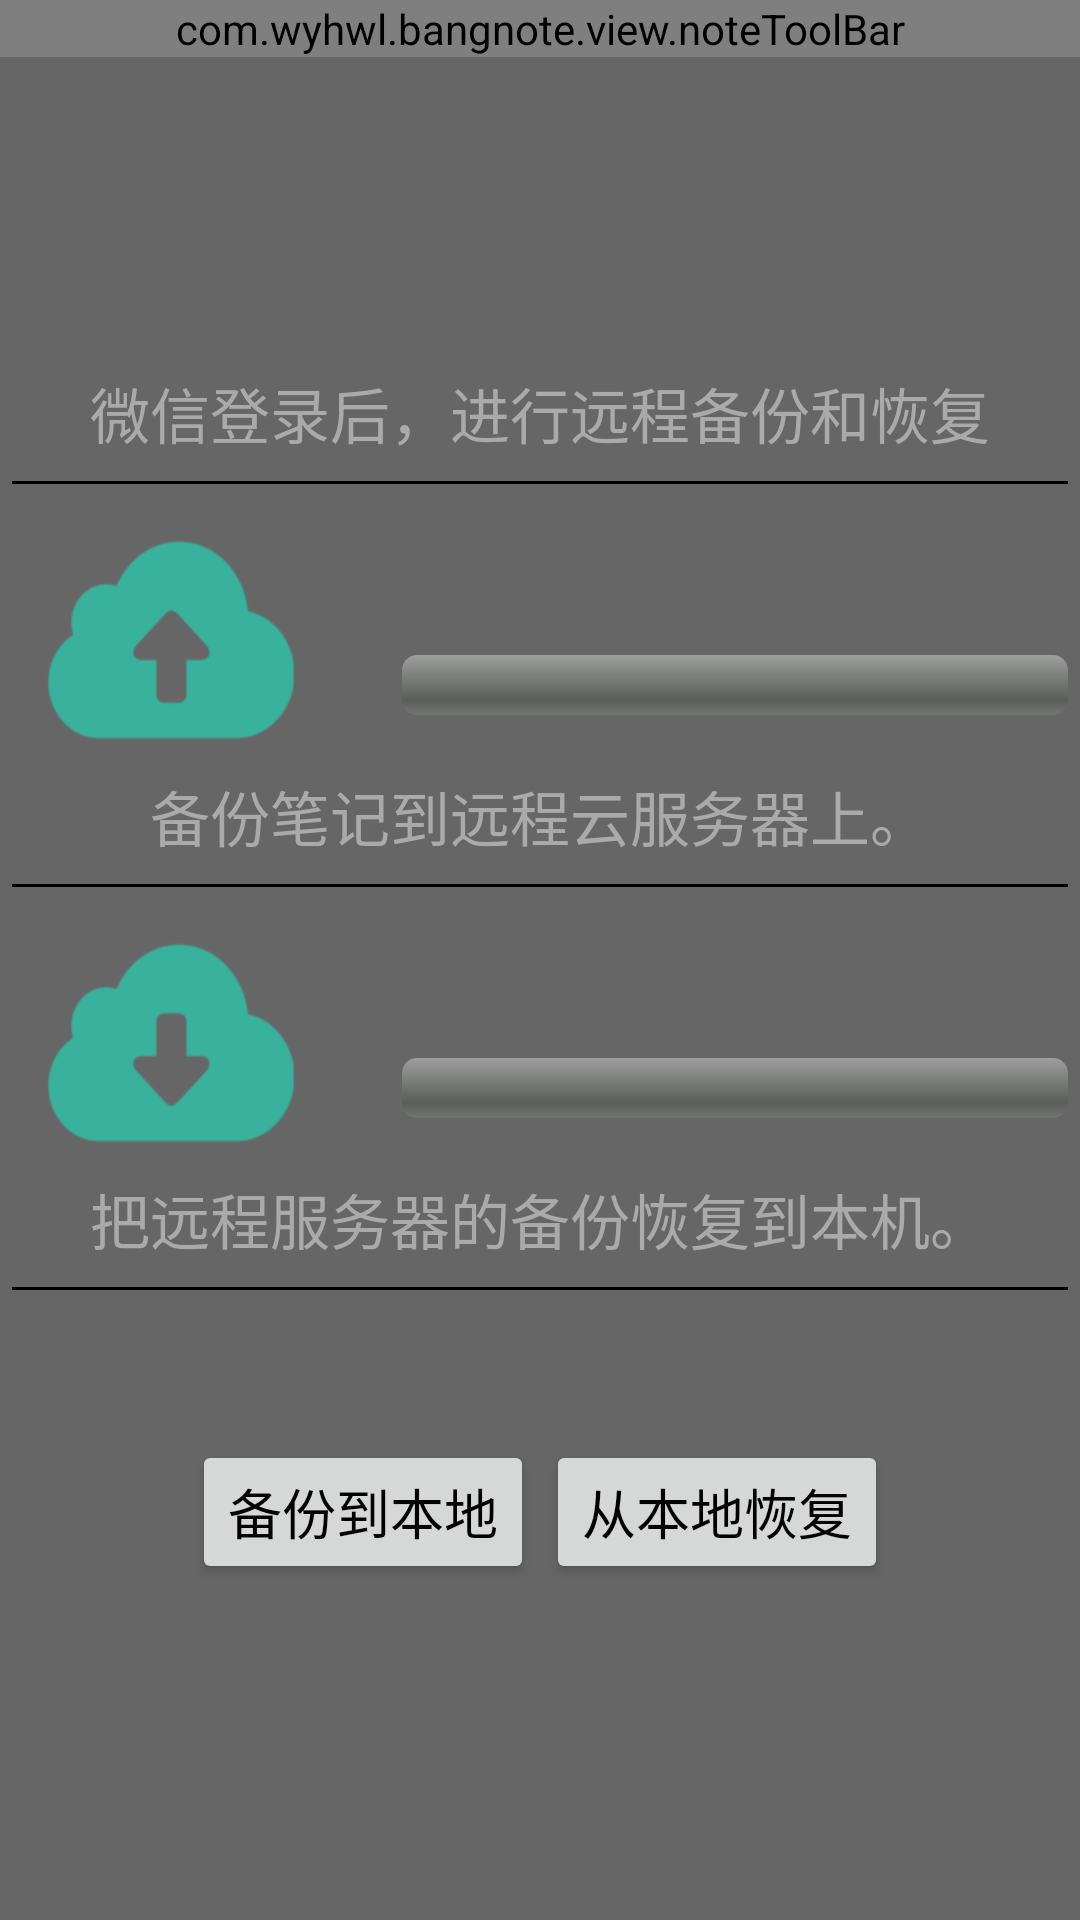

Icons on this 1080 x 1920 Android screen, each with the point to tap as [x,y]:
note cloud restore: [171,1042]
